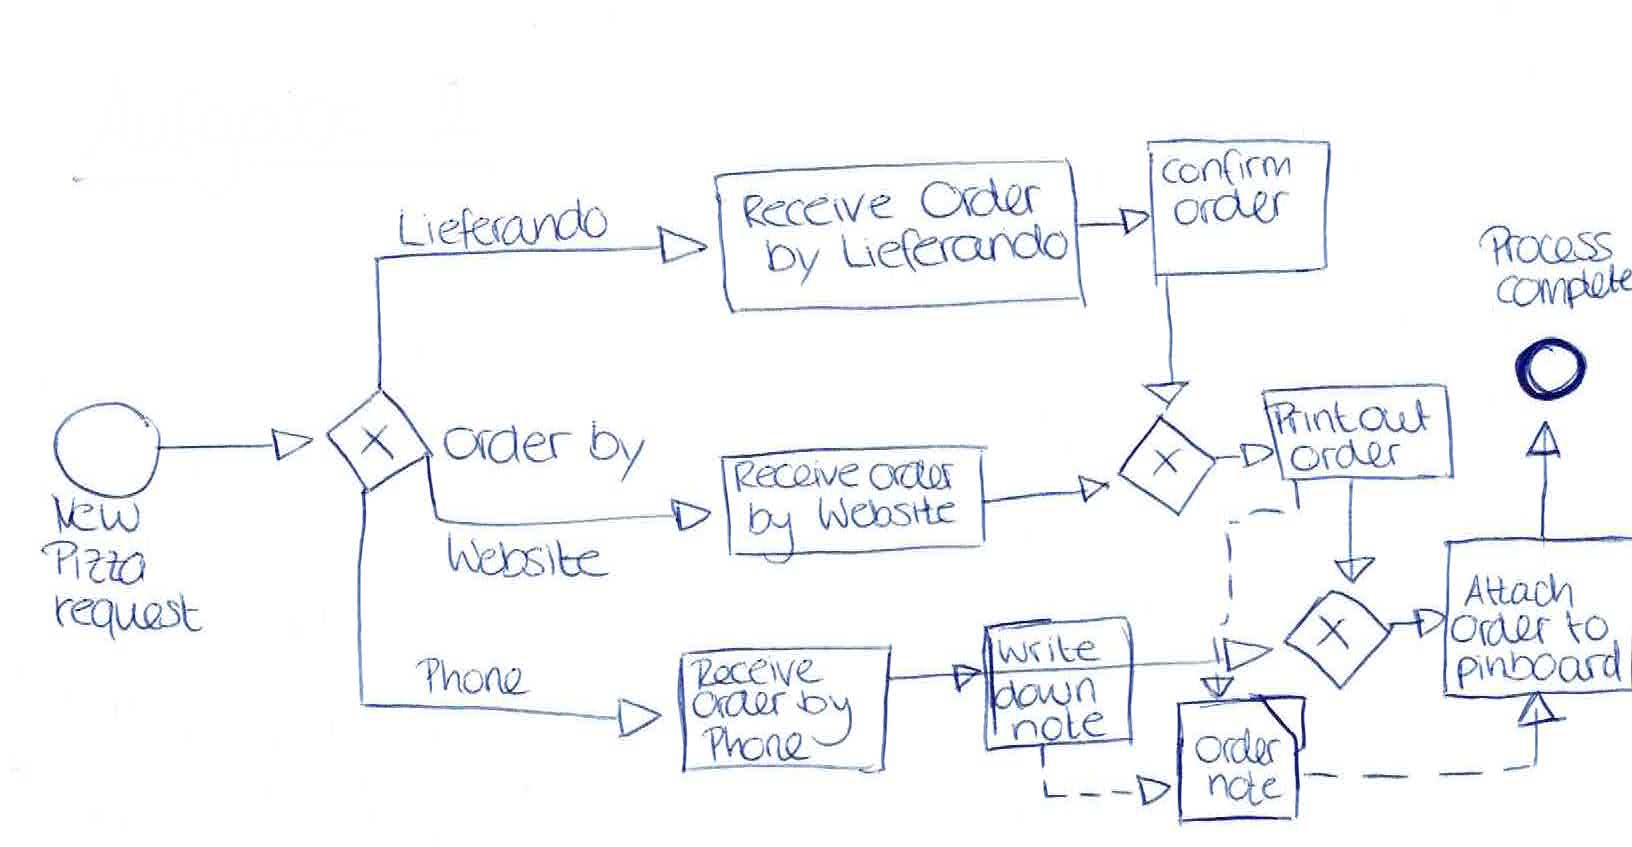Attach: (1464, 573, 1577, 609)
Lieferando: (834, 224, 1078, 277), (393, 201, 614, 250)
New: (52, 494, 146, 536)
Order: (920, 165, 1042, 222)
Phone: (418, 655, 532, 698), (701, 724, 812, 763)
Pizza: (30, 539, 163, 585)
Printout: (1262, 396, 1433, 440)
Process: (1482, 222, 1615, 269)
Receive: (733, 182, 903, 232), (724, 457, 865, 494), (691, 653, 825, 691)
Website: (439, 531, 608, 582), (813, 490, 965, 538)
by: (742, 495, 816, 561), (586, 424, 655, 480), (800, 686, 861, 744), (764, 235, 830, 287)
complete: (1491, 261, 1631, 313)
confirm: (1158, 144, 1294, 192)
down: (995, 669, 1101, 712)
note: (1006, 708, 1109, 744), (1201, 769, 1281, 806)
order: (436, 416, 571, 467), (1170, 185, 1290, 233), (1287, 437, 1401, 474), (1447, 610, 1558, 647), (863, 457, 958, 493), (1191, 730, 1281, 767), (696, 689, 791, 722)
pinboard: (1455, 644, 1626, 692)
request: (50, 592, 210, 636)
to: (1559, 607, 1615, 645)
write: (992, 632, 1098, 667)
